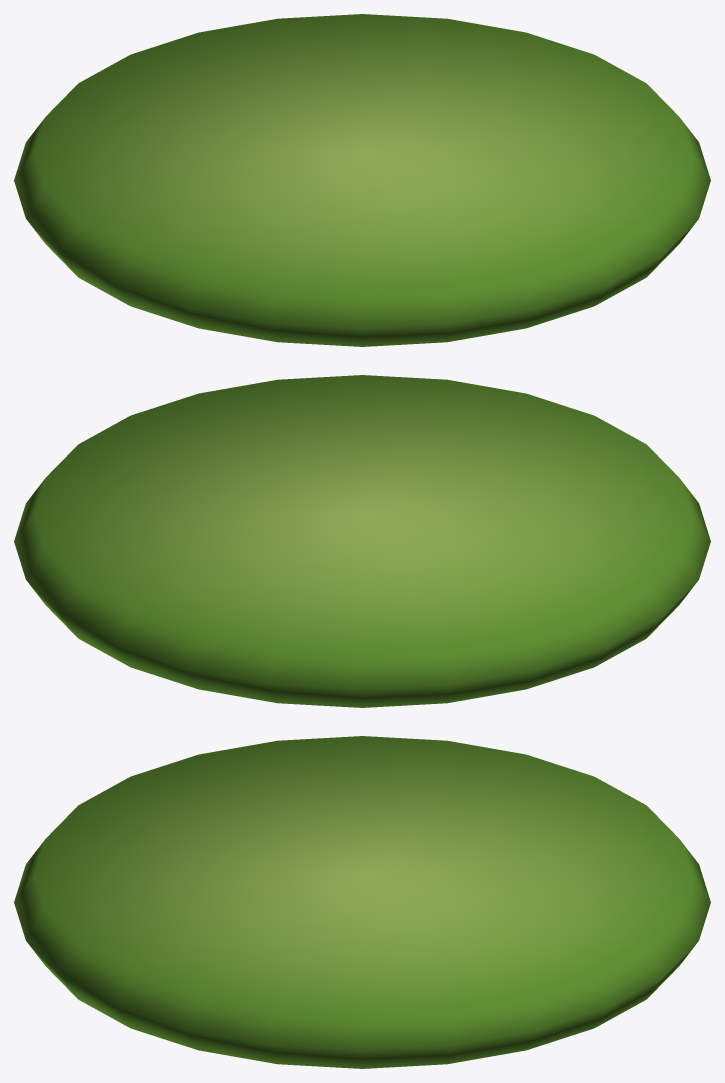
The model's file is pickle.glb.
3 renders of one model, top to bottom at view 1: azimuth 30°, elevation 25°; view 2: azimuth 150°, elevation 25°; view 3: azimuth 270°, elevation 25°, orthographic.
Parts seen in each view (by area): view 1: pickle; view 2: pickle; view 3: pickle.
Part boxes in pixels (left/top/right/bottom): pickle: left=14, top=14, right=710, bottom=346; pickle: left=14, top=375, right=710, bottom=707; pickle: left=14, top=736, right=710, bottom=1068.
Bounding box in the file's own units: 0.034 × 0.003 × 0.034.
